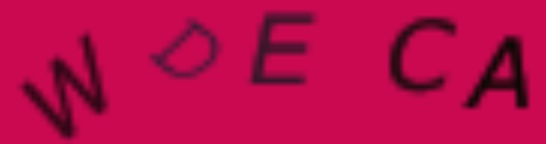A: (464, 31, 537, 110)
C: (386, 14, 460, 96)
D: (150, 17, 223, 82)
E: (247, 8, 317, 89)
W: (17, 31, 110, 139)
